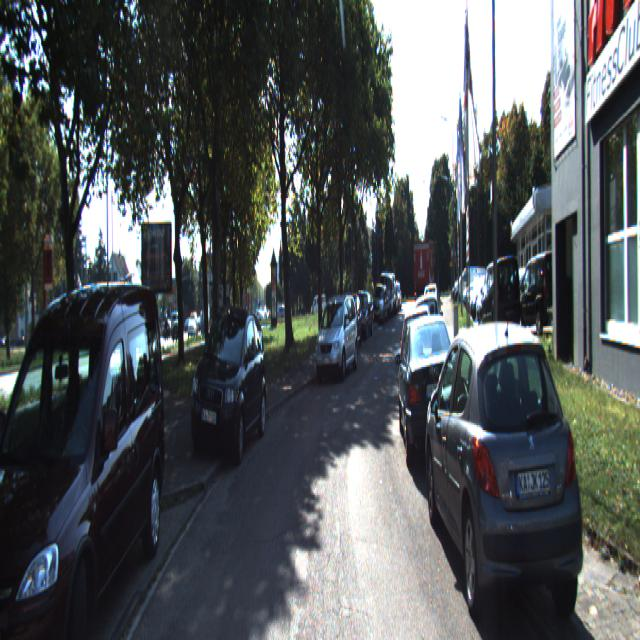Car: (0, 253, 171, 638), (421, 292, 596, 638), (189, 290, 268, 463), (399, 308, 463, 482), (516, 247, 569, 345), (314, 299, 359, 385), (478, 257, 523, 342), (414, 236, 436, 306)
